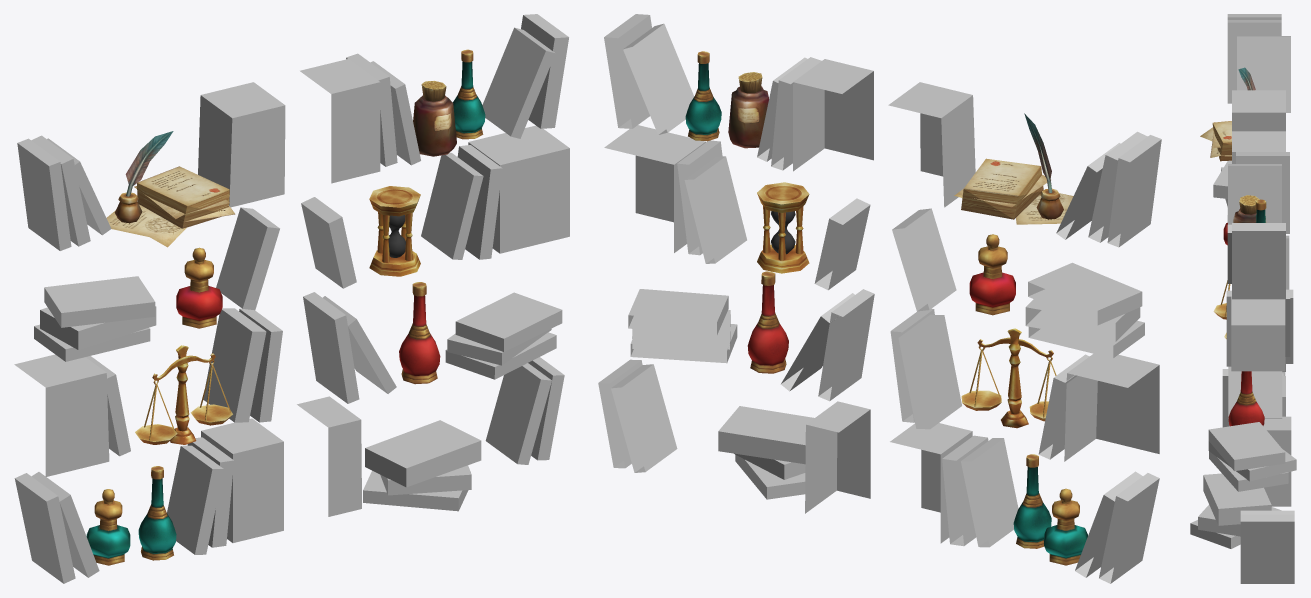
The model's file is Cupboard_Big_Preset_02.FBX.
3 views of the same model, side by side, from view 1: azimuth 30°, elevation 25°; view 2: azimuth 150°, elevation 25°; view 3: azimuth 270°, elevation 25° (orthographic). The views are drawn at different scales.
Parts seen in each view (by area): view 1: Cupboard_Big_Preset_02; view 2: Cupboard_Big_Preset_02; view 3: Cupboard_Big_Preset_02.
Boxes of the visible parts, x1,y1,x2,y2 form: Cupboard_Big_Preset_02: (14,14,569,583); Cupboard_Big_Preset_02: (598,14,1161,583); Cupboard_Big_Preset_02: (1190,14,1296,583).
Size of the model in its own units: 285 by 58.98 by 222.
